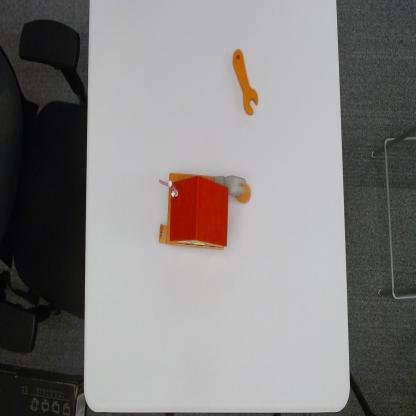Hammer: (215, 172, 253, 205)
House: (158, 169, 229, 252)
Screwdriver: (231, 48, 260, 117)
